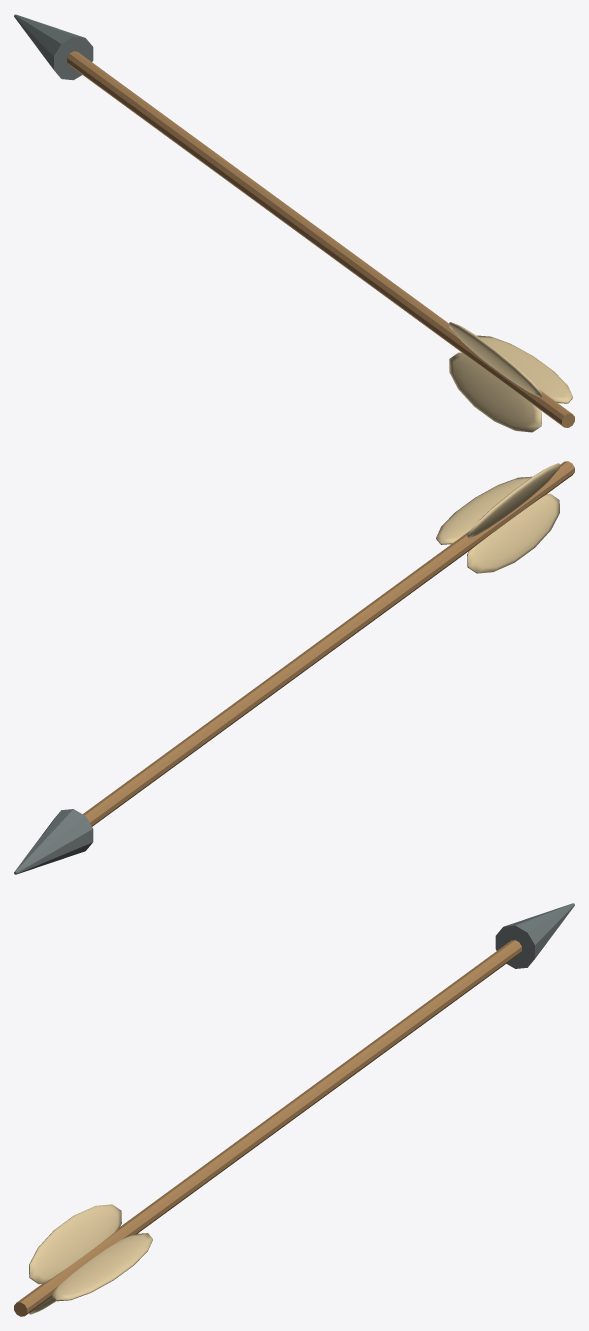
File: field-arrow.glb
3 views of the same model, one above another, from view 1: azimuth 30°, elevation 25°; view 2: azimuth 150°, elevation 25°; view 3: azimuth 330°, elevation 25° (orthographic).
Parts seen in each view (by area): view 1: field-arrow mesh; view 2: field-arrow mesh; view 3: field-arrow mesh.
Boxes of the visible parts, <box> form: field-arrow mesh: <box>14,14,574,432</box>; field-arrow mesh: <box>14,461,574,874</box>; field-arrow mesh: <box>14,903,574,1316</box>.
Size of the model in its own units: 0.043 by 0.0496 by 0.693.
